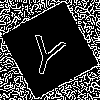Y: (25, 25, 70, 78)
